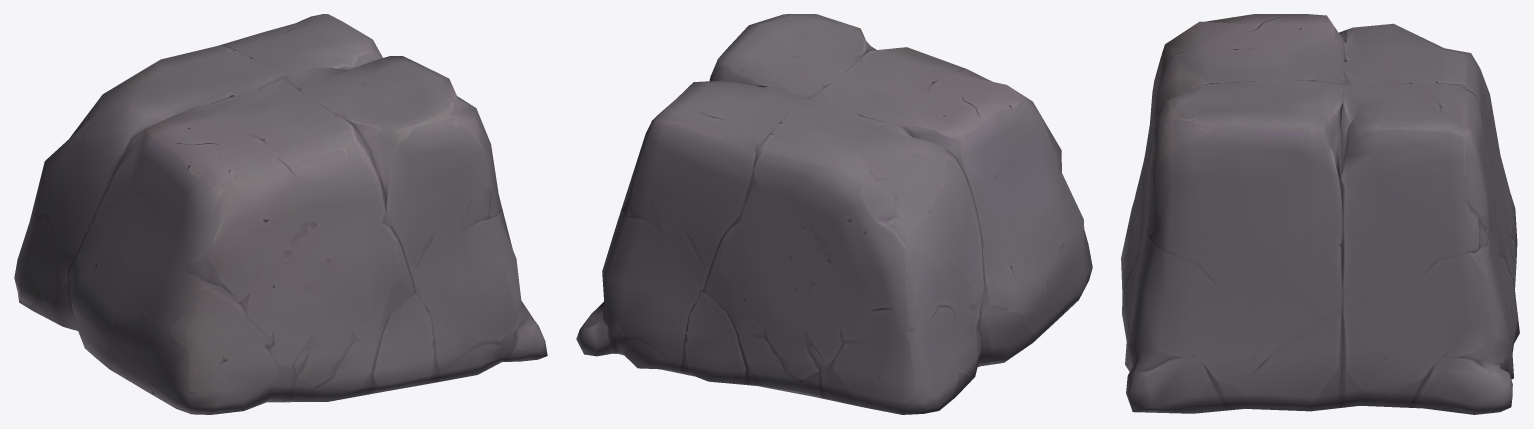
The model's file is stone_rock.glb.
3 renders of one model, left to right at view 1: azimuth 30°, elevation 25°; view 2: azimuth 150°, elevation 25°; view 3: azimuth 270°, elevation 25°, orthographic. The views are drawn at different scales.
Parts seen in each view (by area): view 1: tripo_node_f4e7e90b; view 2: tripo_node_f4e7e90b; view 3: tripo_node_f4e7e90b.
Boxes of the visible parts, x1=… form: tripo_node_f4e7e90b: x1=14, y1=14, x2=547, y2=414; tripo_node_f4e7e90b: x1=576, y1=14, x2=1092, y2=414; tripo_node_f4e7e90b: x1=1121, y1=14, x2=1519, y2=414.
Size of the model in its own units: 1.99 by 1.3 by 1.76.
Materials: 1 (1 with a texture image).
